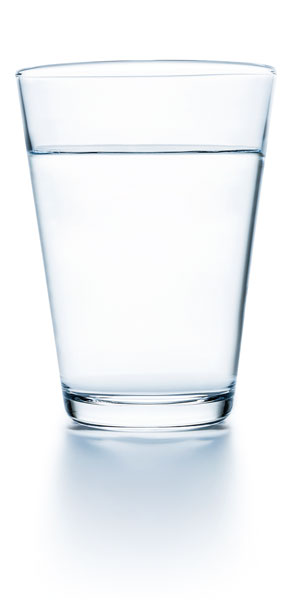glass of water: (35, 74, 245, 431)
